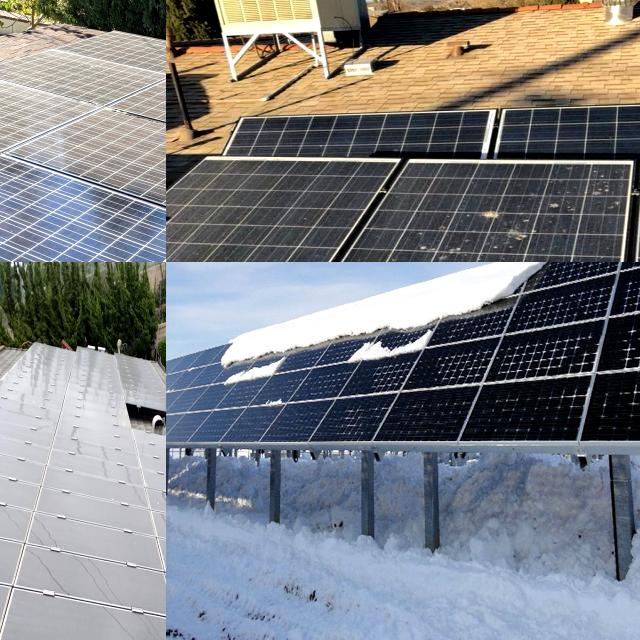dust: (77, 106, 166, 230), (508, 167, 624, 260), (321, 215, 482, 262), (0, 64, 72, 159), (80, 36, 166, 86)
panel: (218, 338, 294, 383), (422, 276, 490, 326), (348, 332, 446, 358), (487, 262, 553, 295), (286, 330, 334, 354), (253, 390, 296, 416)
